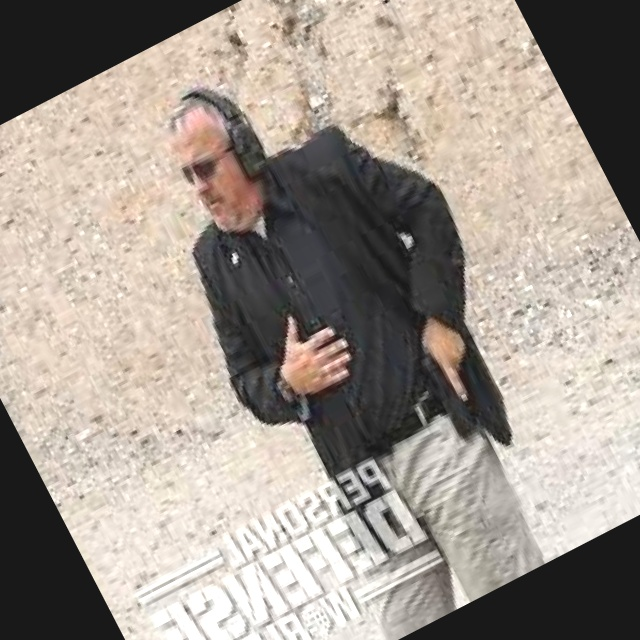gun: (394, 305, 526, 462)
